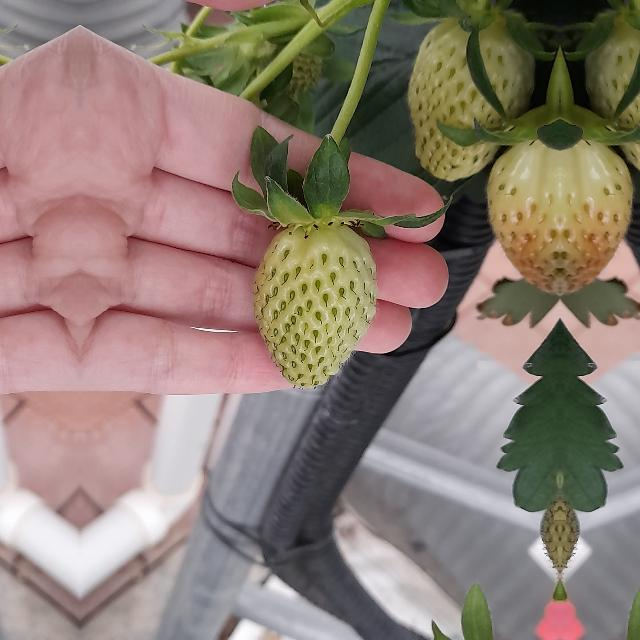Health_25: (252, 224, 378, 388)
